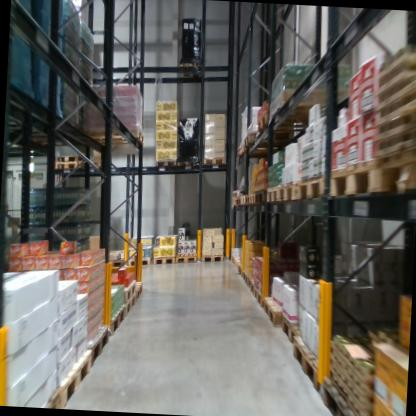pallet: (268, 81, 361, 122), (72, 117, 152, 163), (327, 143, 385, 203), (373, 141, 416, 205), (59, 340, 98, 408), (288, 323, 325, 385), (81, 316, 114, 379), (242, 129, 304, 152), (253, 109, 308, 133), (279, 309, 312, 349), (175, 56, 212, 91), (294, 168, 327, 206), (101, 271, 138, 304), (259, 291, 284, 332), (109, 292, 128, 340), (126, 248, 157, 273), (199, 152, 224, 178), (276, 173, 295, 204), (131, 274, 148, 305), (174, 245, 199, 266), (54, 141, 79, 162), (43, 382, 61, 408), (103, 253, 126, 272), (249, 280, 265, 307), (265, 181, 280, 208), (78, 158, 100, 175), (175, 157, 199, 172), (155, 156, 177, 172), (253, 182, 267, 206), (126, 289, 137, 319), (200, 252, 227, 264), (53, 161, 77, 173), (151, 254, 177, 265), (244, 271, 255, 294), (248, 187, 258, 207), (239, 268, 249, 286), (230, 185, 241, 197), (235, 194, 243, 205), (244, 192, 250, 206), (240, 192, 244, 206), (230, 198, 236, 205)
